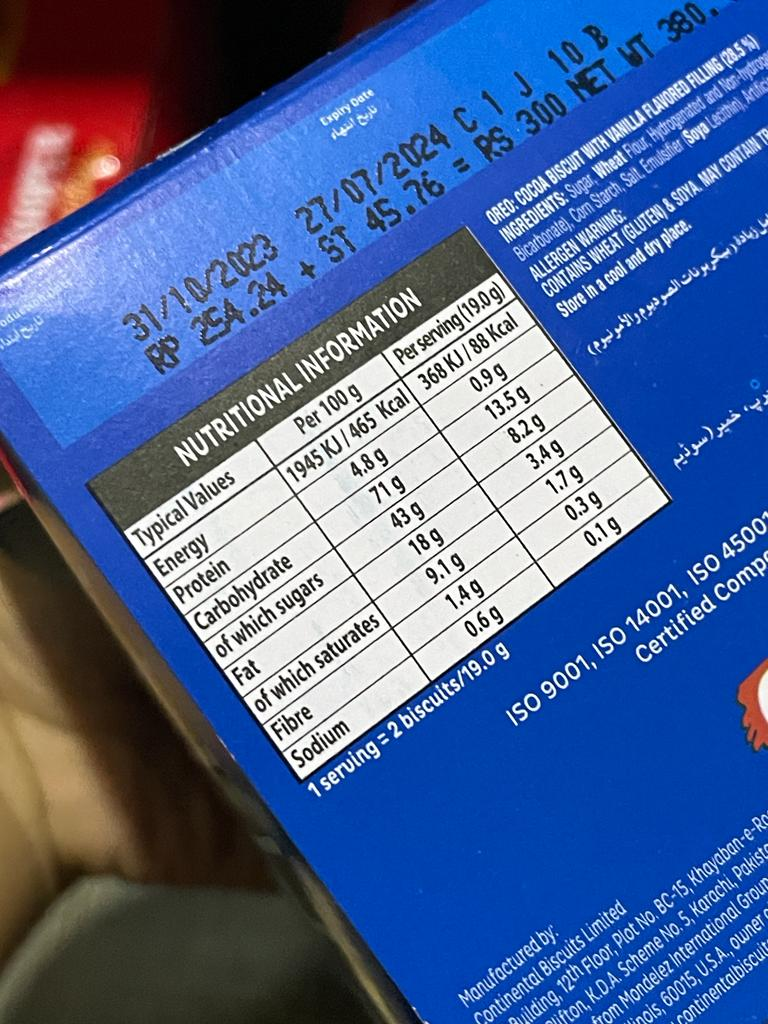table: (90, 225, 681, 784)
